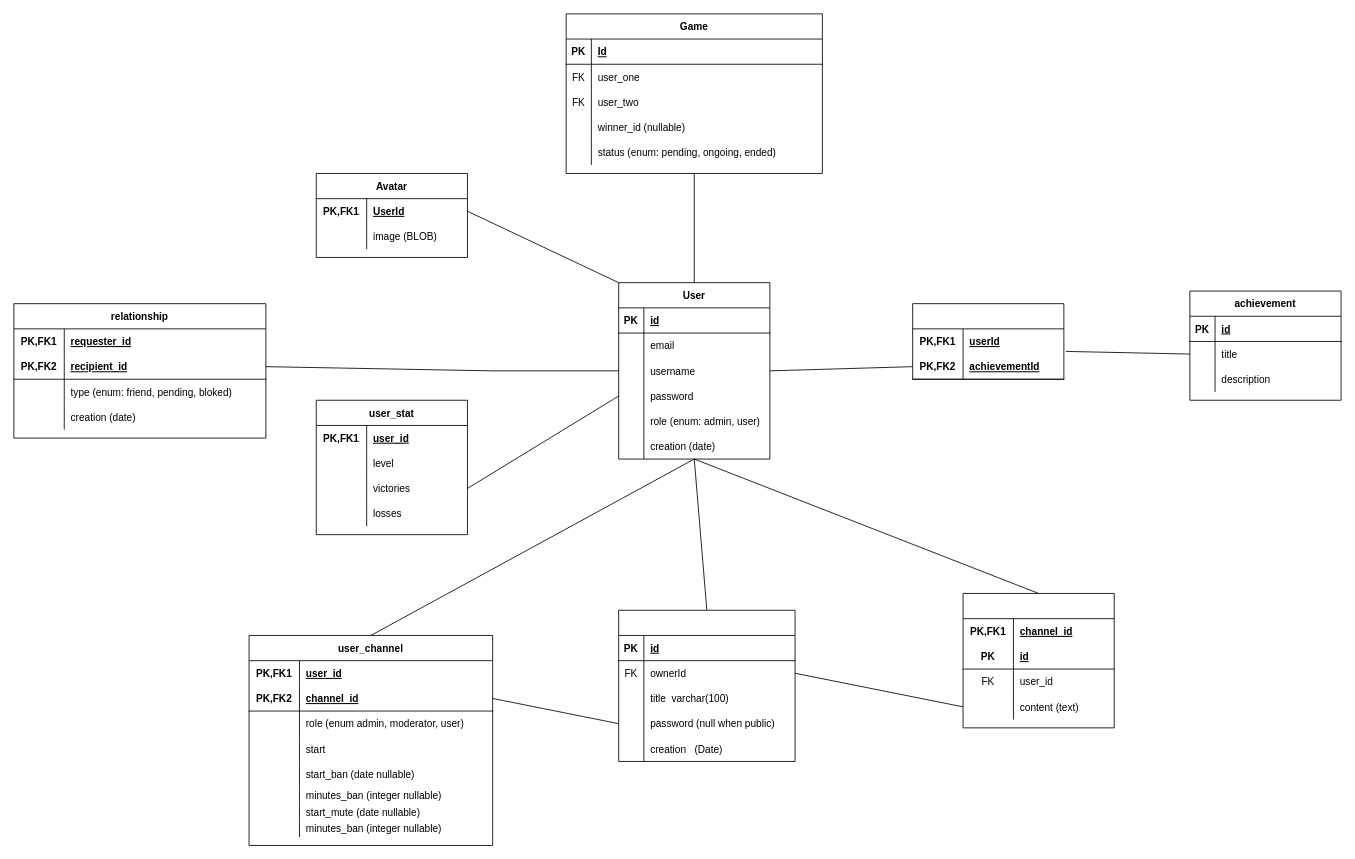
Some shapes in this 1355 by 859 pixel diagram are drawn without their labels. The shapes that lost their labels are listed below. From the top down, each one's box as (x1, y1, x2, y2) in pixels, then its label:
(912, 303, 1064, 379): user_achievement
(962, 593, 1114, 728): message
(618, 609, 795, 761): channel
